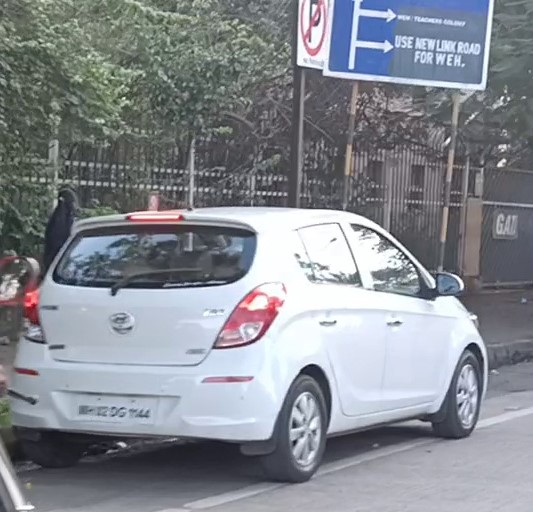MH12DG7144: (70, 395, 161, 424)
